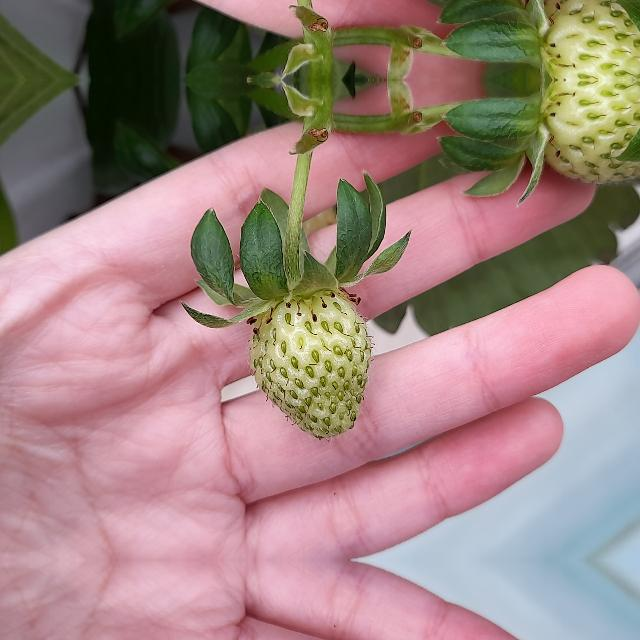Health_25: (249, 290, 371, 438), (536, 80, 640, 188), (536, 0, 639, 80)
